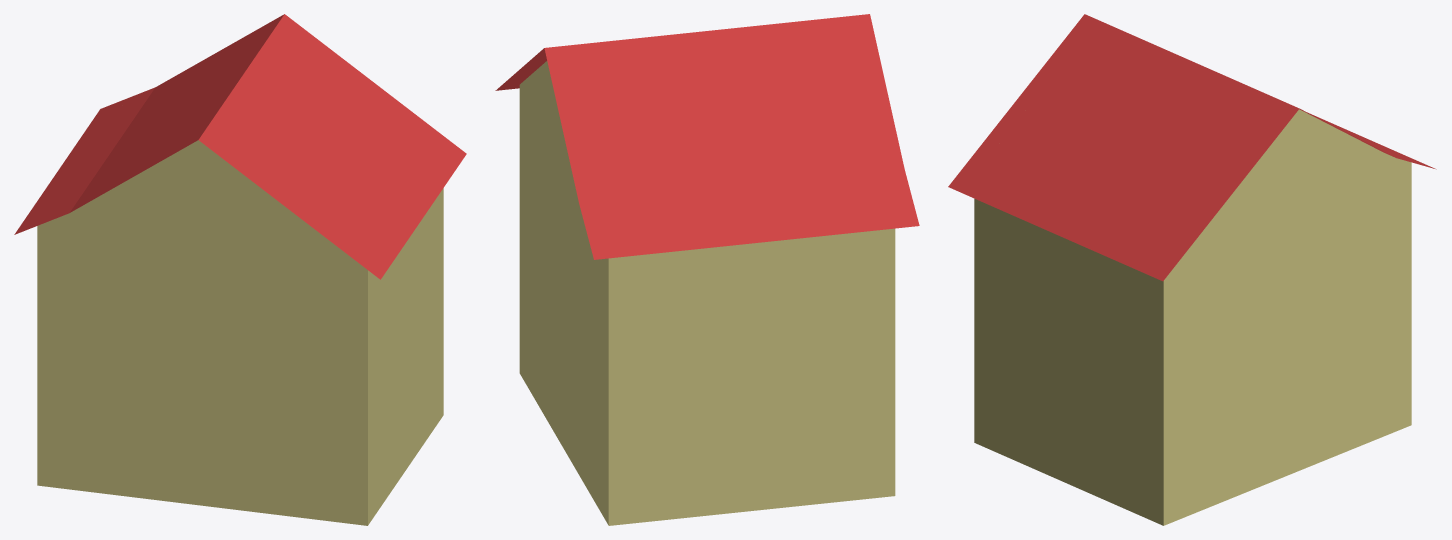
3 views of the same model, side by side, from view 1: azimuth 30°, elevation 25°; view 2: azimuth 150°, elevation 25°; view 3: azimuth 270°, elevation 25° (orthographic). The views are drawn at different scales.
Bounding box in the file's own units: 13.08 × 13.14 × 11.04.
